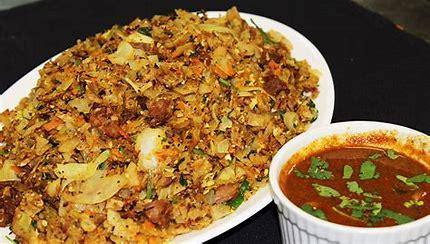Kottu: (12, 14, 265, 234)
